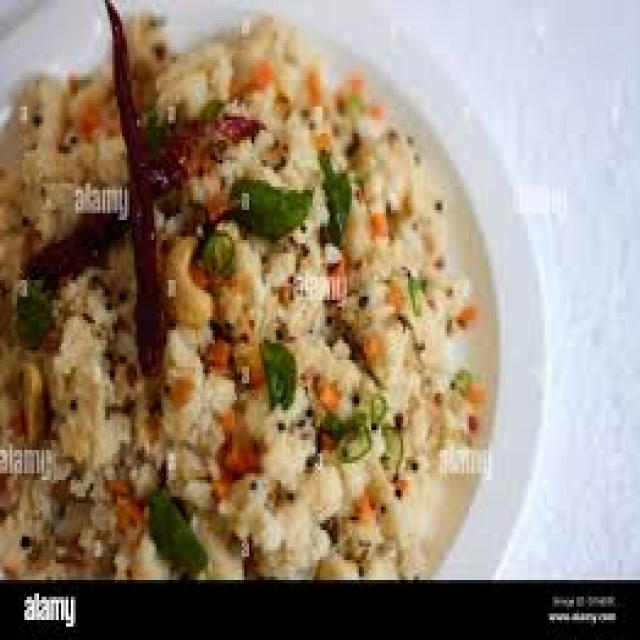UPMA: (2, 13, 491, 570)
